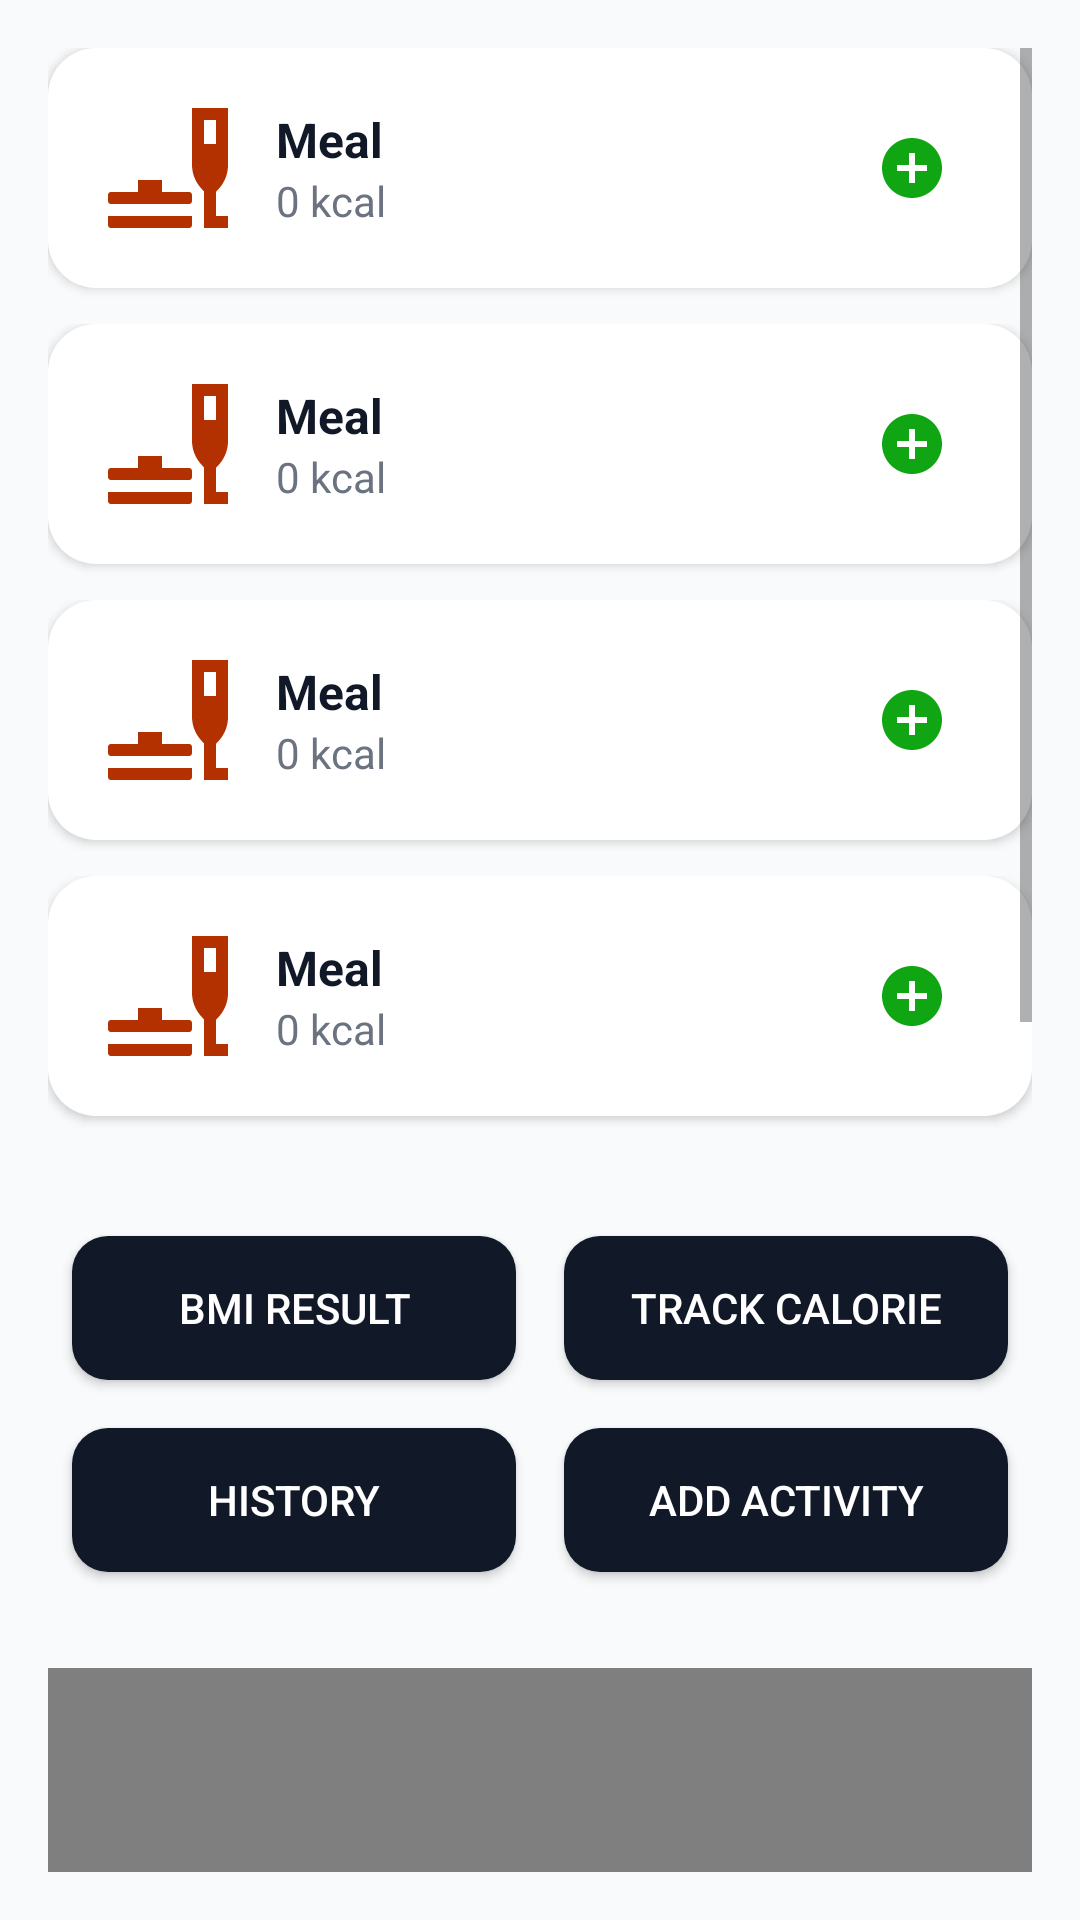

Point at icon controls on the screen. Image size 1080x1920, points as point (x, y).
Add Meal: point (912, 168), point (912, 444), point (912, 720), point (912, 996)
